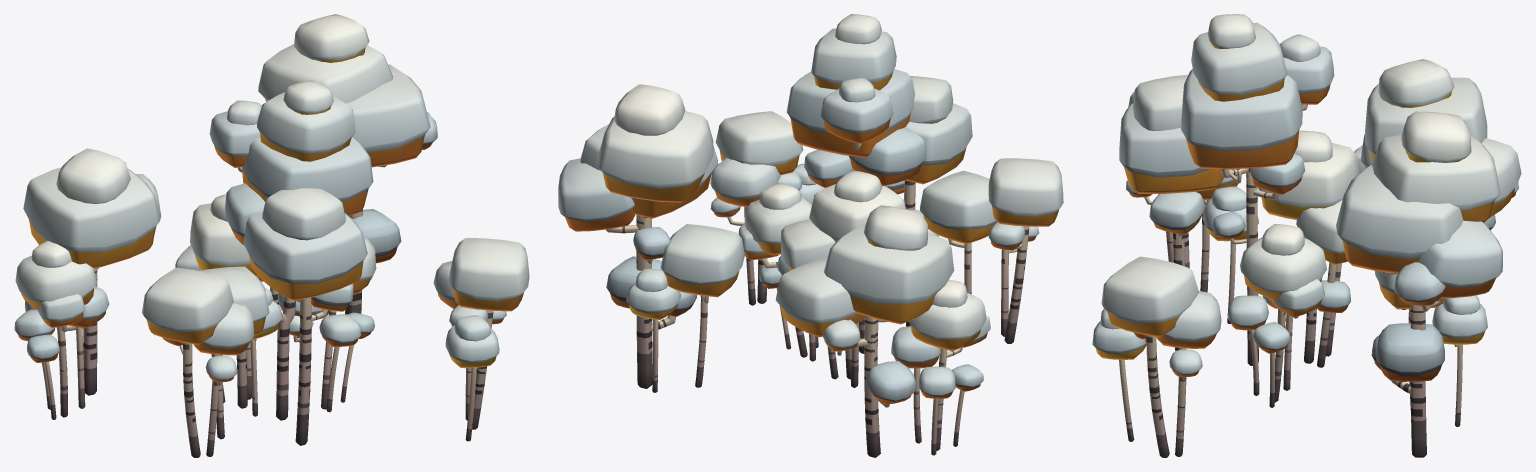
Rendered from birch_tree_group_col2_snow.fbx.
The picture shows the model from 3 angles, left to right: view 1: azimuth 30°, elevation 25°; view 2: azimuth 150°, elevation 25°; view 3: azimuth 270°, elevation 25°; orthographic projection. The views are drawn at different scales.
Parts seen in each view (by area): view 1: birch_tree_group_col2_snow; view 2: birch_tree_group_col2_snow; view 3: birch_tree_group_col2_snow.
Boxes of the visible parts, box(x1,y1,x2,y2) form: birch_tree_group_col2_snow: box(14, 14, 529, 457); birch_tree_group_col2_snow: box(558, 14, 1063, 457); birch_tree_group_col2_snow: box(1092, 14, 1521, 457).
Bounding box in the file's own units: 1697 × 1363 × 1426.
